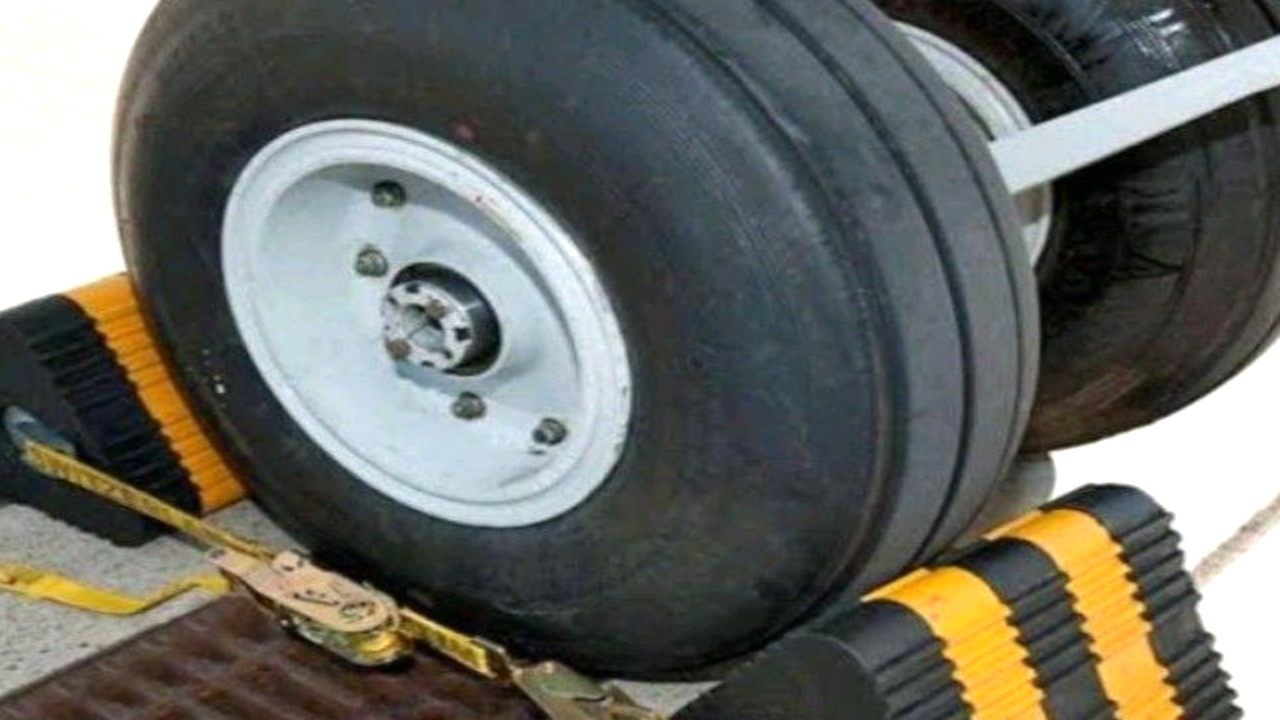chock: (640, 483, 1248, 720), (0, 266, 318, 551)
wheel: (104, 0, 1020, 663), (814, 0, 1280, 439)
